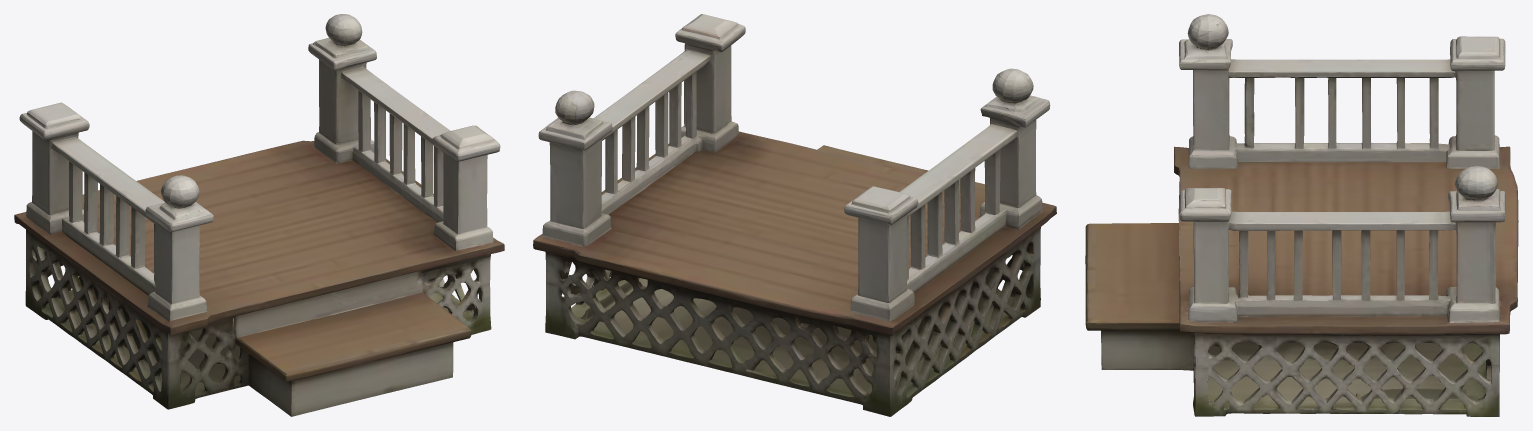
3 views of the same model, side by side, from view 1: azimuth 30°, elevation 25°; view 2: azimuth 150°, elevation 25°; view 3: azimuth 270°, elevation 25° (orthographic). The views are drawn at different scales.
Visible parts, largest first — view 1: world; view 2: world; view 3: world.
Part boxes in pixels (box(x1,y1,x2,y2)): world: box(14, 14, 504, 416); world: box(533, 14, 1056, 416); world: box(1085, 14, 1518, 416).
Size of the model in its own units: 0.9615 by 0.6038 by 0.987.
Materials: 1 (1 with a texture image).
